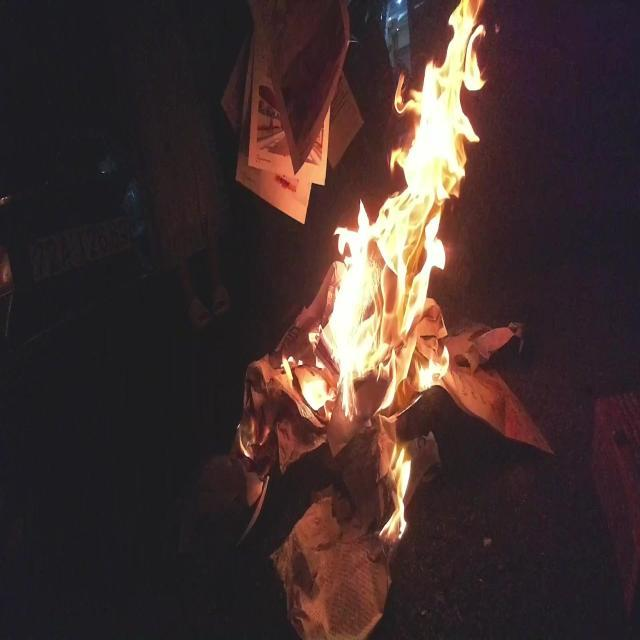Fire: (235, 0, 501, 551)
